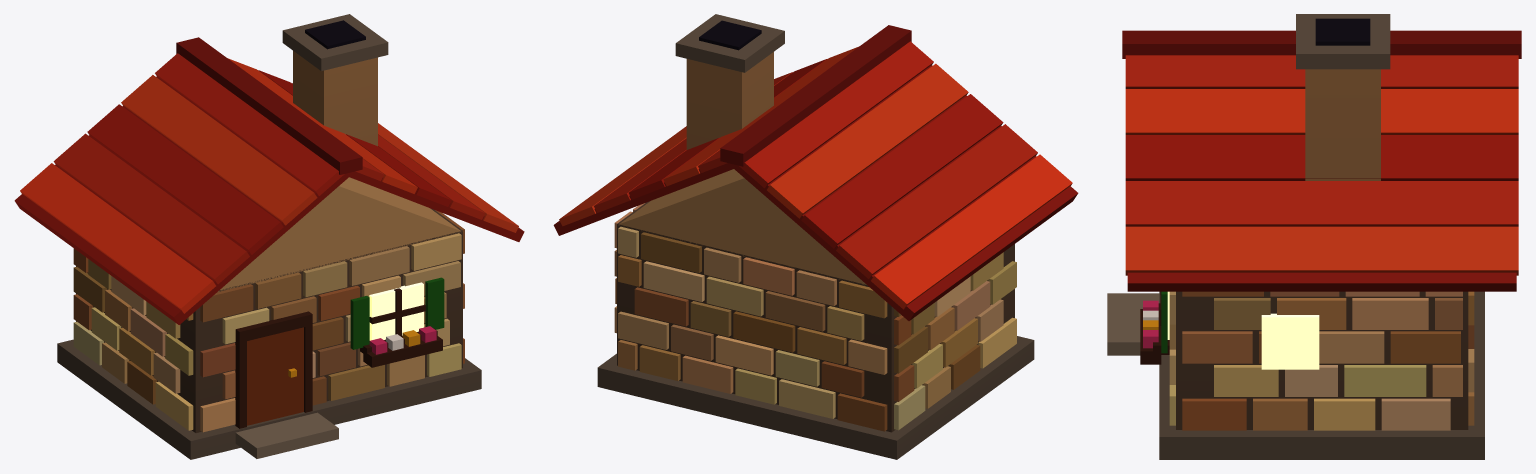
The model's file is cottage.glb.
The picture shows the model from 3 angles, left to right: view 1: azimuth 30°, elevation 25°; view 2: azimuth 150°, elevation 25°; view 3: azimuth 270°, elevation 25°; orthographic projection. The views are drawn at different scales.
Parts seen in each view (by area): view 1: cottage; view 2: cottage; view 3: cottage.
Boxes of the visible parts, x1=… form: cottage: x1=14, y1=14, x2=524, y2=459; cottage: x1=553, y1=14, x2=1078, y2=459; cottage: x1=1107, y1=14, x2=1521, y2=459.
Size of the model in its own units: 4.7 by 4.07 by 3.95.
